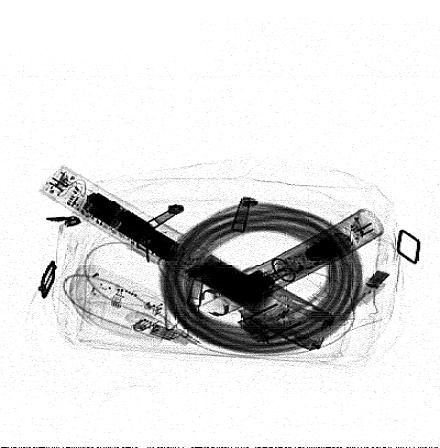Baton: (38, 164, 337, 352), (201, 208, 385, 316)
